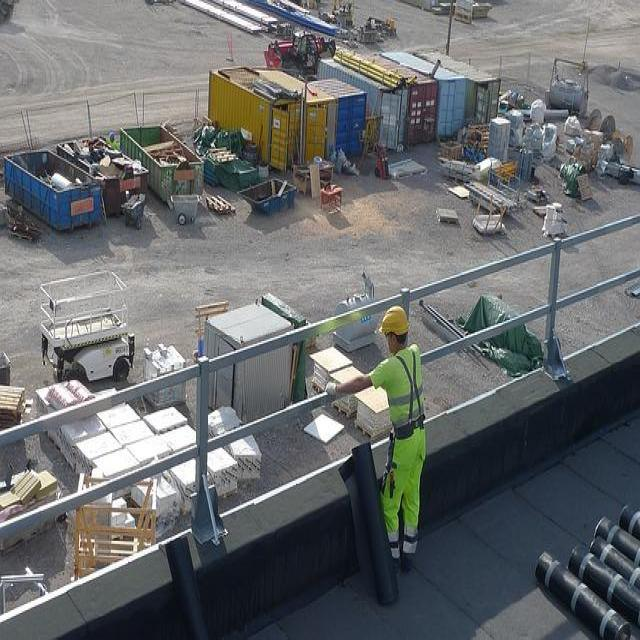Reflective-Jacket: (387, 344, 426, 437)
Safety-Helmet: (379, 305, 410, 337)
